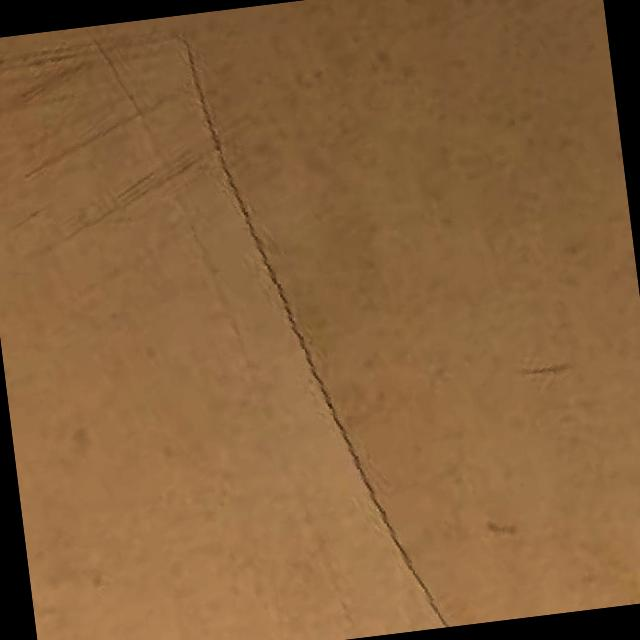crack: (184, 14, 446, 640)
